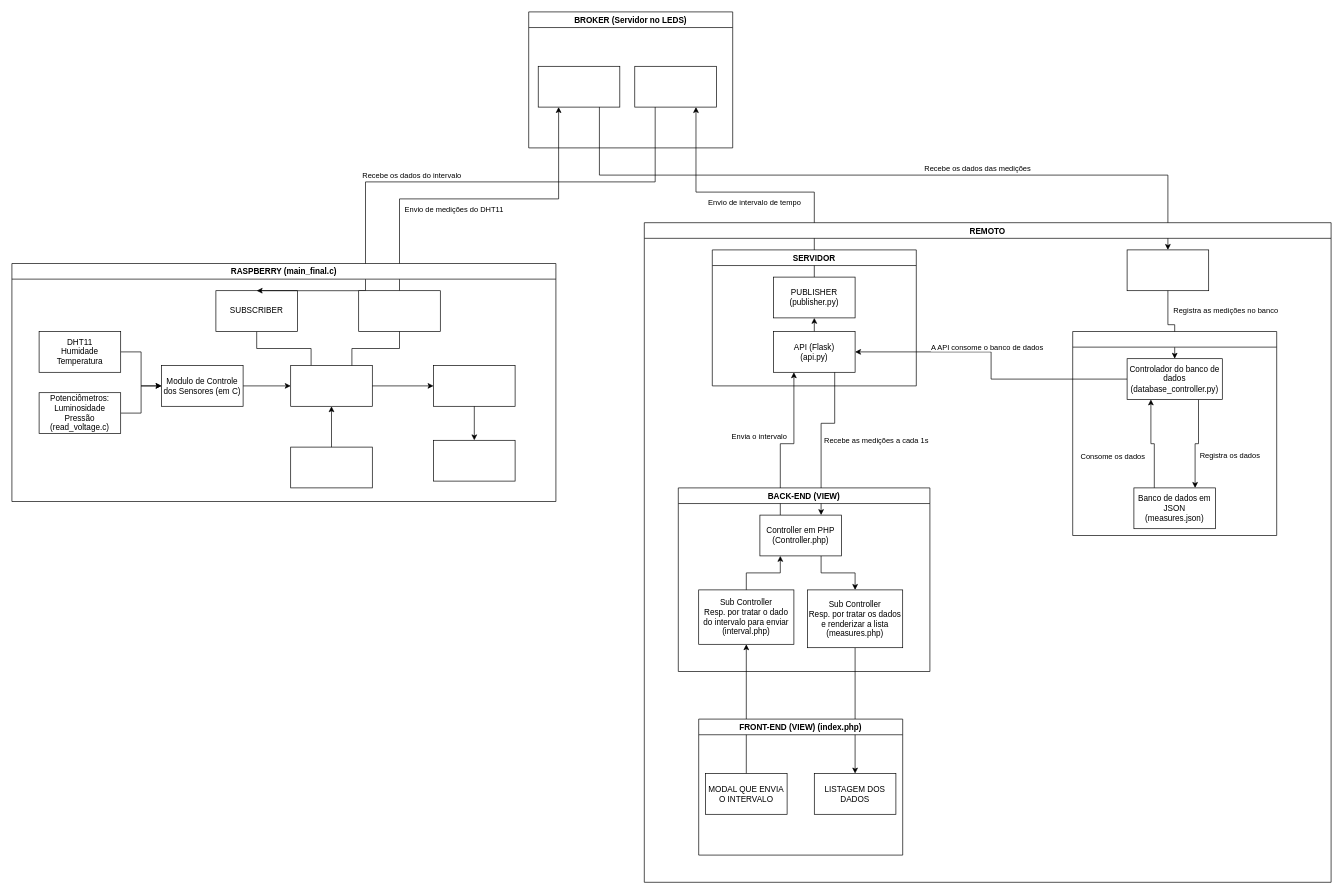
Image size: 1343x894. Some labels were removed from this diagram. Here are the shapes that lost their labels. From the top down, the centre of each, then its label:
At pixel 579 86: "CANAL 1 Envio de medições".
At pixel 675 86: "CANAL 2 Envio de intervalos".
At pixel 1167 270: "SUBSCRIBER (subscriber.py)".
At pixel 399 311: "PUBLISHER".
At pixel 331 385: "Main".
At pixel 474 385: "Modulo de Controle do LCD".
At pixel 1174 433: "BANCO DE DADOS".
At pixel 331 467: "Inputs (Deepswitches e PushButtons)".
At pixel 474 460: "LCD".
